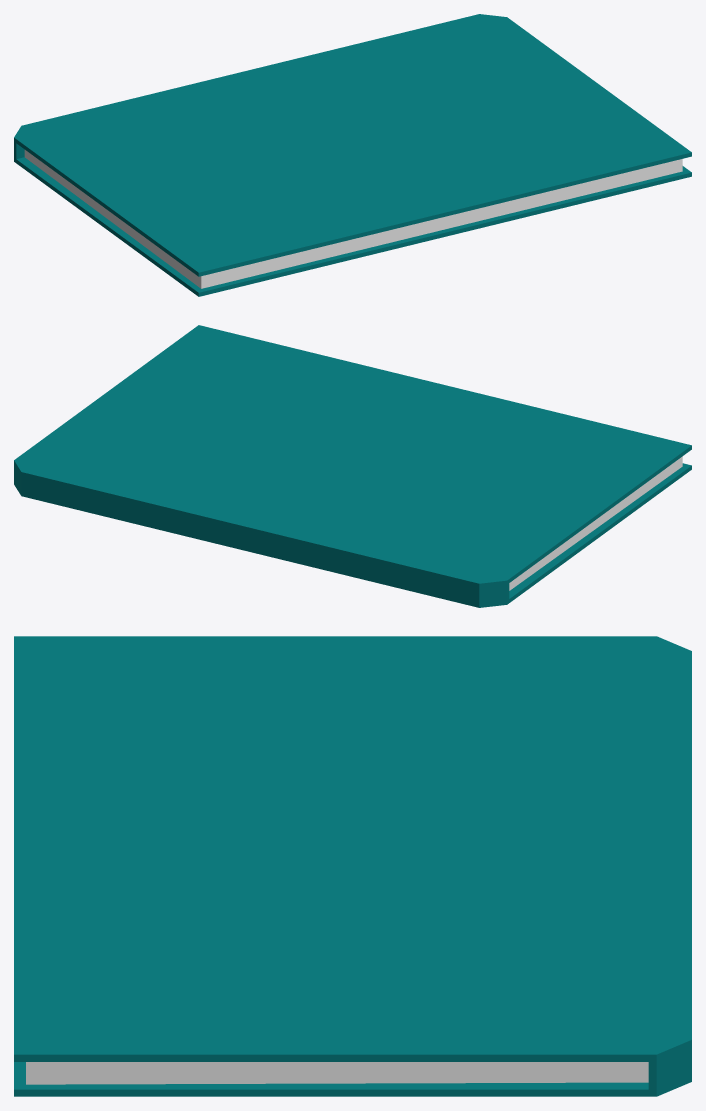
The model's file is Note Book_2.fbx.
3 views of the same model, one above another, from view 1: azimuth 30°, elevation 25°; view 2: azimuth 150°, elevation 25°; view 3: azimuth 270°, elevation 25° (orthographic). The views are drawn at different scales.
Parts seen in each view (by area): view 1: Note Book_2; view 2: Note Book_2; view 3: Note Book_2.
Part boxes in pixels (x1,y1,x2,y2): Note Book_2: [14, 14, 691, 296]; Note Book_2: [14, 325, 691, 607]; Note Book_2: [14, 636, 691, 1096].
Bounding box in the file's own units: 0.2067 × 0.0097 × 0.1415.
